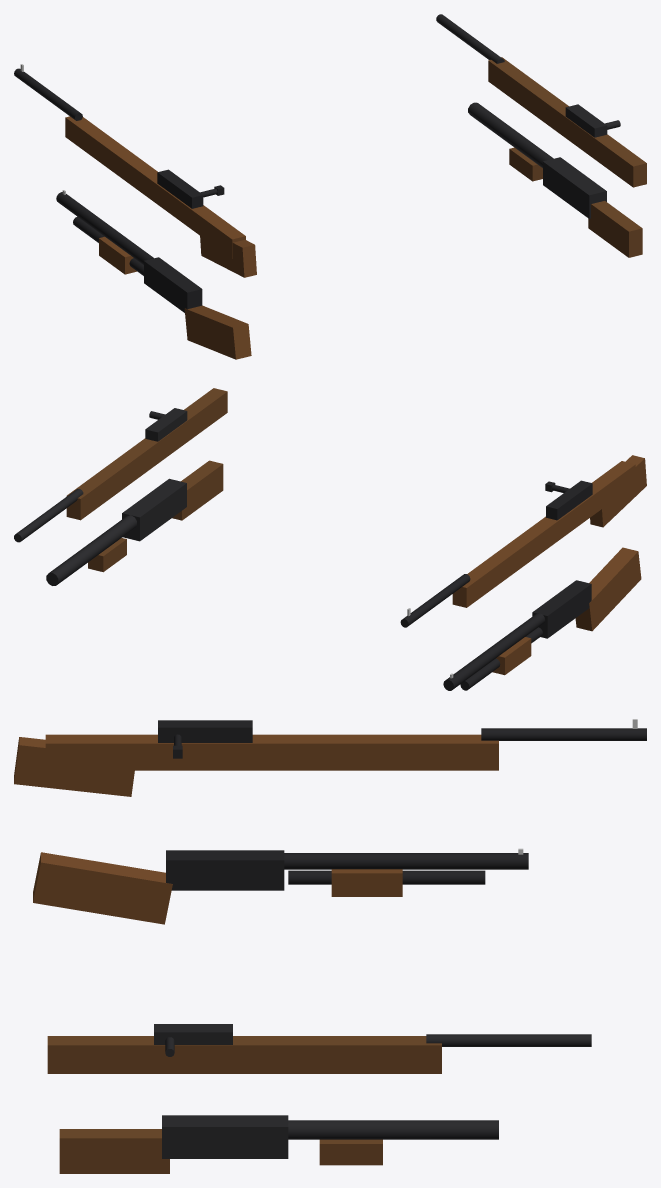
Rendered from guns.glb.
The picture shows the model from 3 angles, top to bottom: view 1: azimuth 30°, elevation 25°; view 2: azimuth 150°, elevation 25°; view 3: azimuth 270°, elevation 25°; orthographic projection. The views are drawn at different scales.
Parts seen in each view (by area): view 1: Stock.003, Stock.001, Stock.002, Receiver, Stock, Receiver.002, Barrel, Barrel.002, Butt, Receiver.003, Receiver.001, Barrel.003 (+3 smaller); view 2: Stock.003, Stock.001, Stock.002, Receiver, Receiver.002, Barrel, Stock, Barrel.002, Butt, Receiver.003, Barrel.001, Barrel.003 (+4 smaller); view 3: Stock.003, Stock.001, Stock.002, Receiver, Receiver.002, Stock, Barrel, Barrel.002, Butt, Barrel.003, Receiver.003, Barrel.001 (+4 smaller).
Part boxes in pixels (x1=…): Stock.003: x1=65, y1=116, x2=245, y2=258; Stock.001: x1=488, y1=57, x2=646, y2=187; Stock.002: x1=184, y1=305, x2=251, y2=359; Receiver: x1=543, y1=157, x2=606, y2=218; Stock: x1=588, y1=201, x2=642, y2=257; Receiver.002: x1=144, y1=257, x2=202, y2=312; Barrel: x1=468, y1=102, x2=553, y2=167; Barrel.002: x1=56, y1=192, x2=153, y2=264; Butt: x1=200, y1=236, x2=256, y2=277; Receiver.003: x1=157, y1=169, x2=203, y2=208; Receiver.001: x1=565, y1=104, x2=607, y2=137; Barrel.003: x1=14, y1=68, x2=82, y2=120; Stock.003: x1=452, y1=461, x2=635, y2=607; Stock.001: x1=66, y1=388, x2=227, y2=520; Stock.002: x1=575, y1=547, x2=641, y2=631; Receiver: x1=122, y1=478, x2=186, y2=541; Receiver.002: x1=532, y1=580, x2=591, y2=638; Barrel: x1=46, y1=515, x2=136, y2=585; Stock: x1=172, y1=460, x2=223, y2=520; Barrel.002: x1=443, y1=613, x2=544, y2=690; Butt: x1=590, y1=455, x2=646, y2=527; Receiver.003: x1=546, y1=480, x2=592, y2=520; Barrel.001: x1=14, y1=488, x2=83, y2=542; Barrel.003: x1=400, y1=574, x2=470, y2=627; Stock.003: x1=45, y1=734, x2=498, y2=770; Stock.001: x1=47, y1=1036, x2=441, y2=1073; Stock.002: x1=33, y1=852, x2=172, y2=924; Receiver: x1=162, y1=1115, x2=288, y2=1158; Receiver.002: x1=166, y1=850, x2=284, y2=890; Stock: x1=59, y1=1129, x2=169, y2=1173; Barrel: x1=288, y1=1120, x2=498, y2=1139; Barrel.002: x1=284, y1=853, x2=528, y2=869; Butt: x1=14, y1=737, x2=134, y2=796; Barrel.003: x1=481, y1=728, x2=646, y2=740; Receiver.003: x1=158, y1=720, x2=252, y2=742; Barrel.001: x1=426, y1=1034, x2=591, y2=1046.
Size of the model in its own units: 1.73 by 0.5595 by 1.61.
